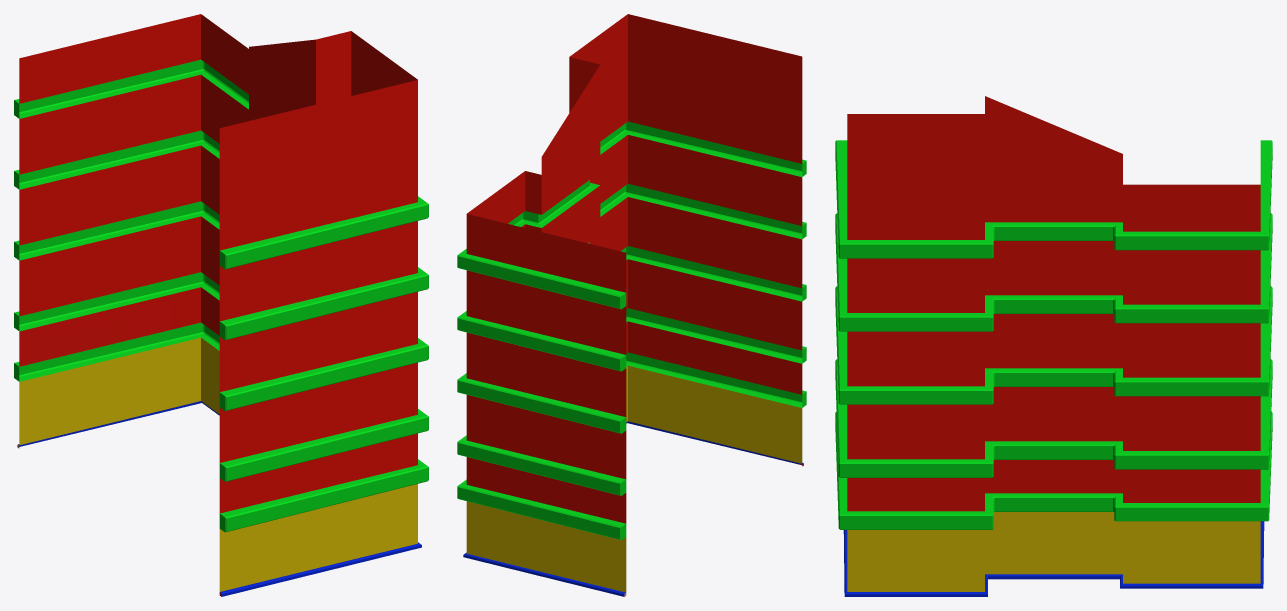
File: Palazzi_VP.fbx
The picture shows the model from 3 angles, left to right: view 1: azimuth 30°, elevation 25°; view 2: azimuth 150°, elevation 25°; view 3: azimuth 270°, elevation 25°; orthographic projection. The views are drawn at different scales.
Parts seen in each view (by area): view 1: Cube.132; view 2: Cube.132; view 3: Cube.132.
Part boxes in pixels (x1,y1,x2,y2): Cube.132: [14, 14, 428, 596]; Cube.132: [457, 14, 806, 596]; Cube.132: [835, 96, 1272, 596].
Size of the model in its own units: 1942 by 4220 by 3471.
